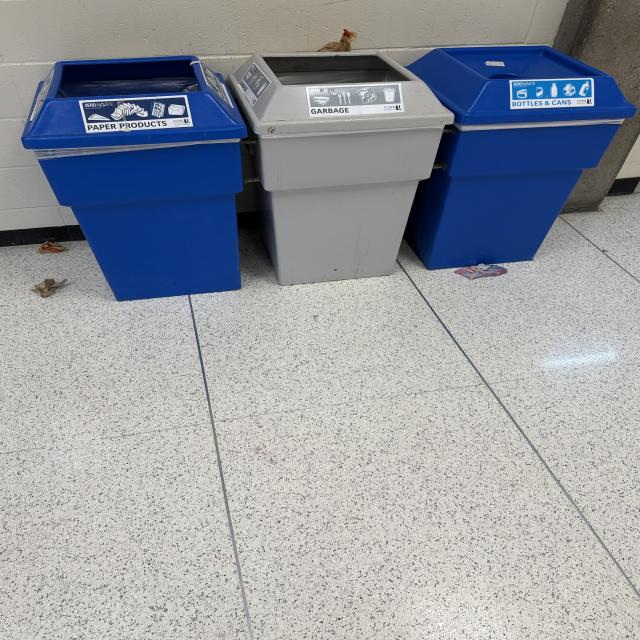Dustbin: (20, 43, 635, 302)
